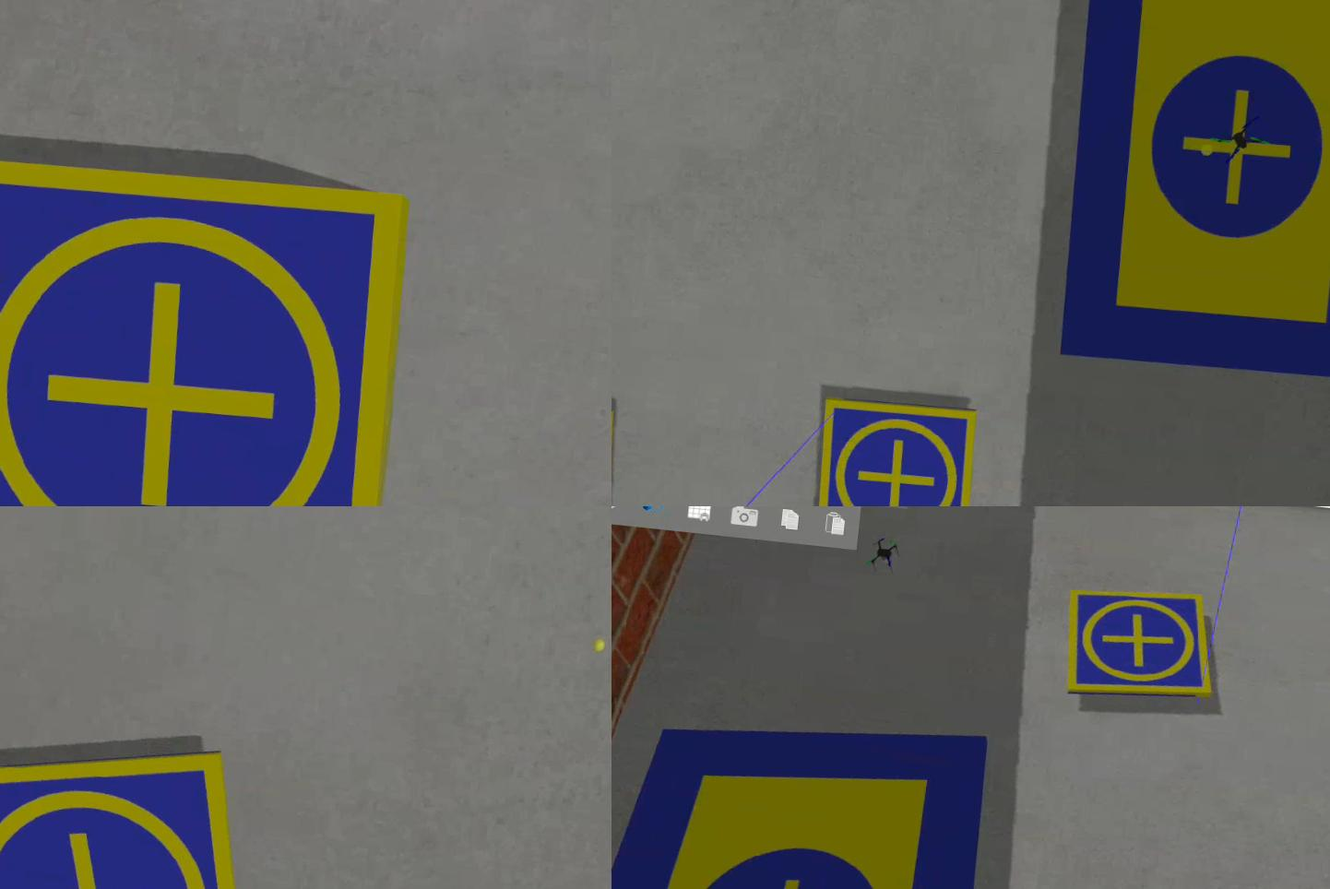large_base: (1050, 1, 1330, 387), (612, 690, 998, 889)
small_base: (1, 142, 412, 507), (1, 720, 278, 889), (1057, 583, 1228, 709), (809, 396, 981, 507)
